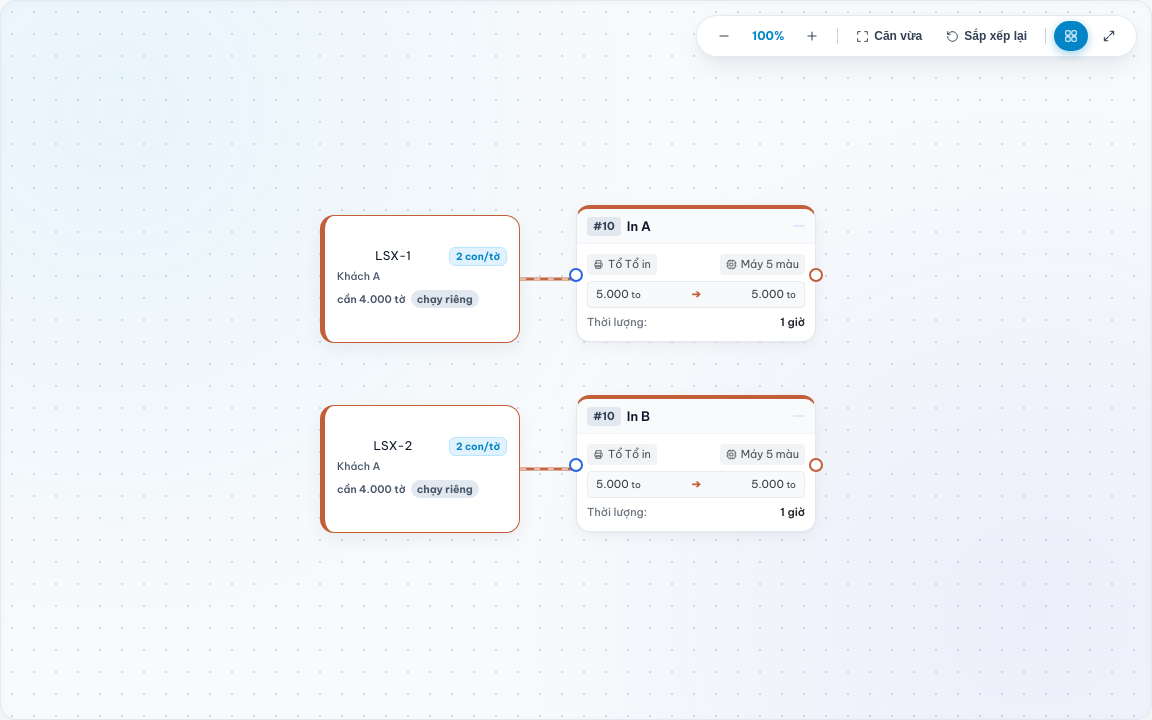
Test case: chọn bước để gộp › bấm thẻ mờ vì sinh vòng thì NÓI lý do, không im lặng nuốt cú bấm
The width and height of the screenshot is (1152, 720).
Click the button titled "In A".
click(696, 274)  # box top-left (576, 205), bottom-right (816, 342)
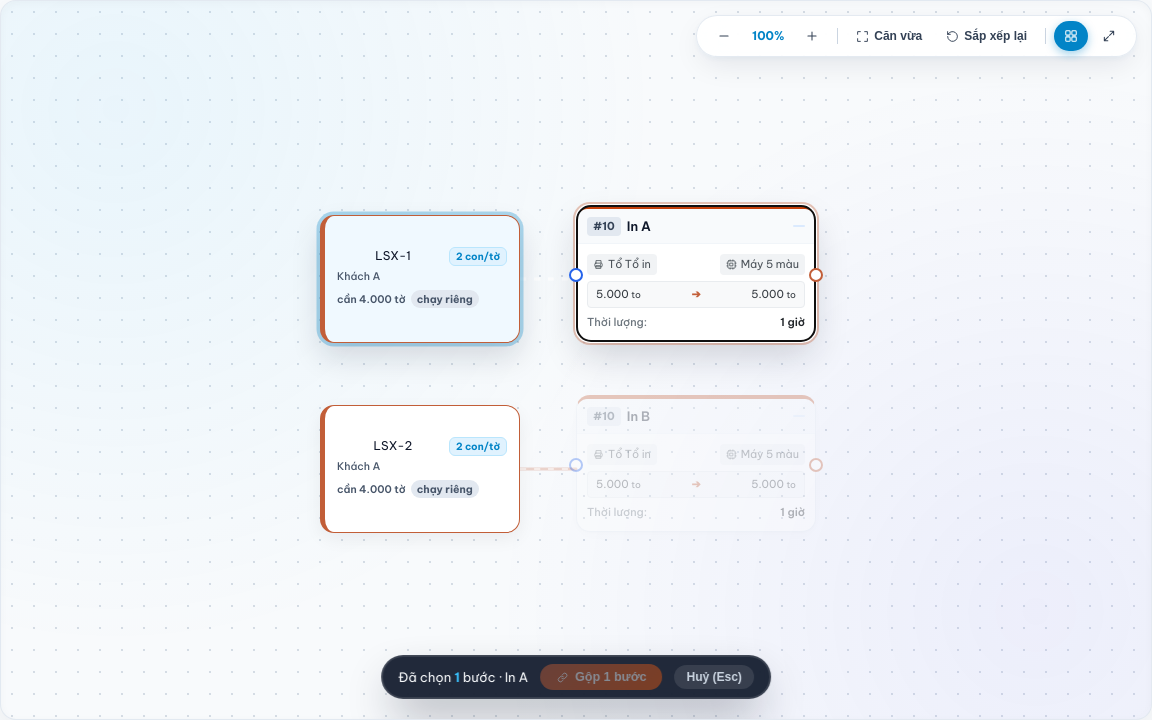
Check: the button titled "In B" has class "is-mo"
Click the button titled "In B".
click(696, 464)  # box top-left (576, 395), bottom-right (816, 532)
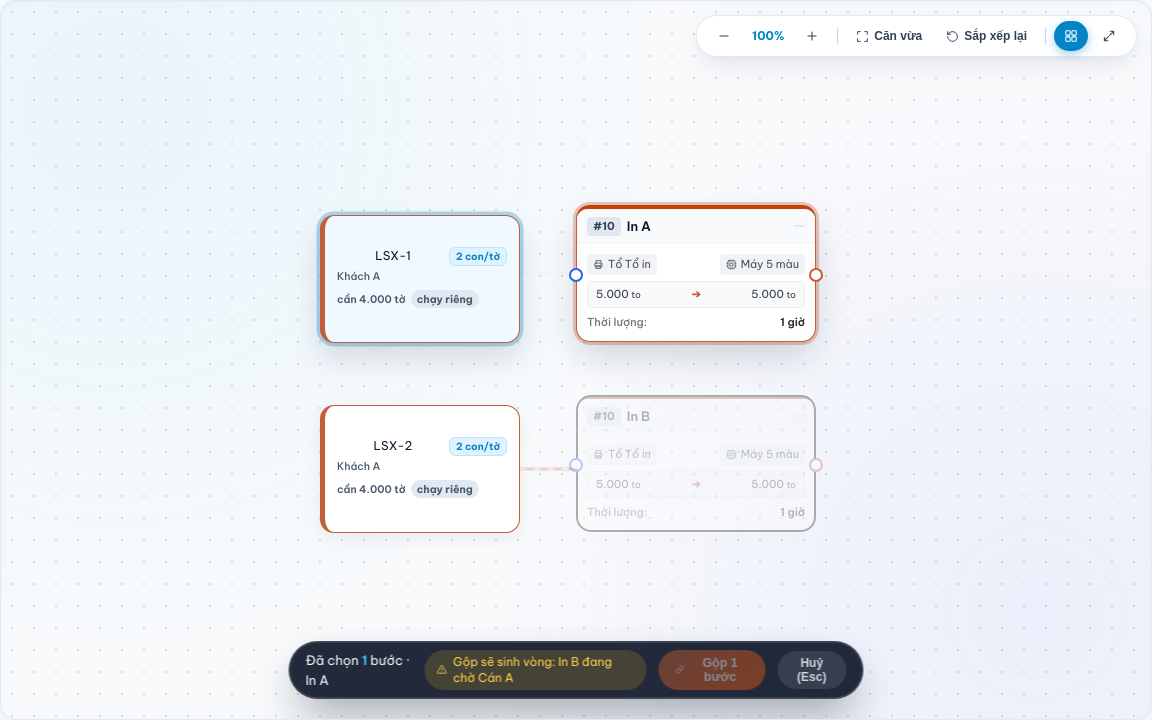
Check: the element with class "bgsd-selbar__info" reads "Đã chọn 1 bước · In A", box top-left (306, 650), bottom-right (412, 690)
Check: the message "Gộp sẽ sinh vòng: In B đang chờ Cán A" is shown, box top-left (424, 650), bottom-right (647, 690)
